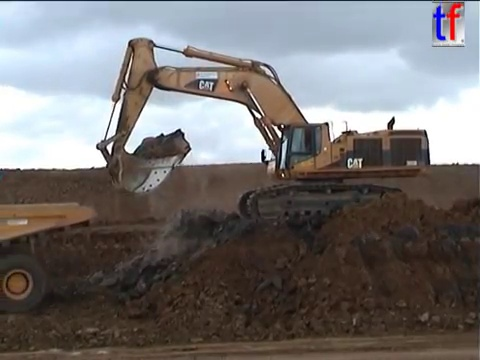excavator: (93, 34, 433, 228)
truck: (1, 199, 99, 314)
